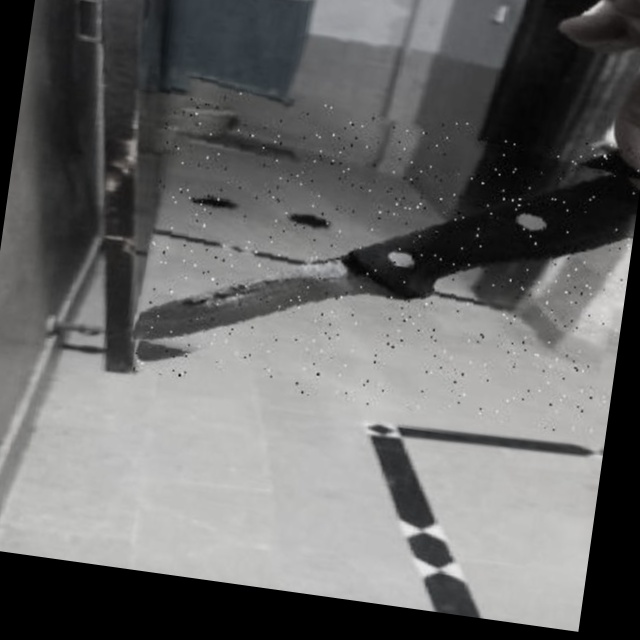Sharp-Object: (132, 81, 640, 437)
